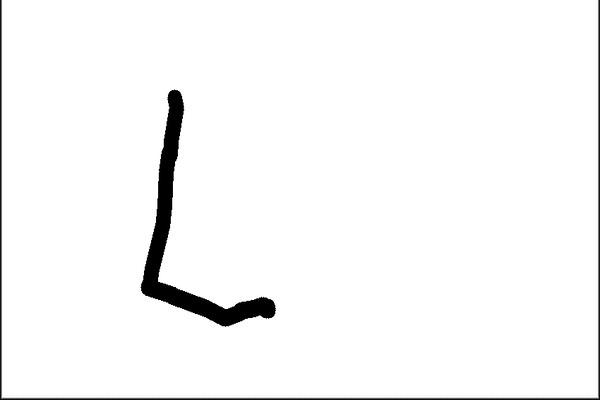L: (132, 80, 283, 334)
